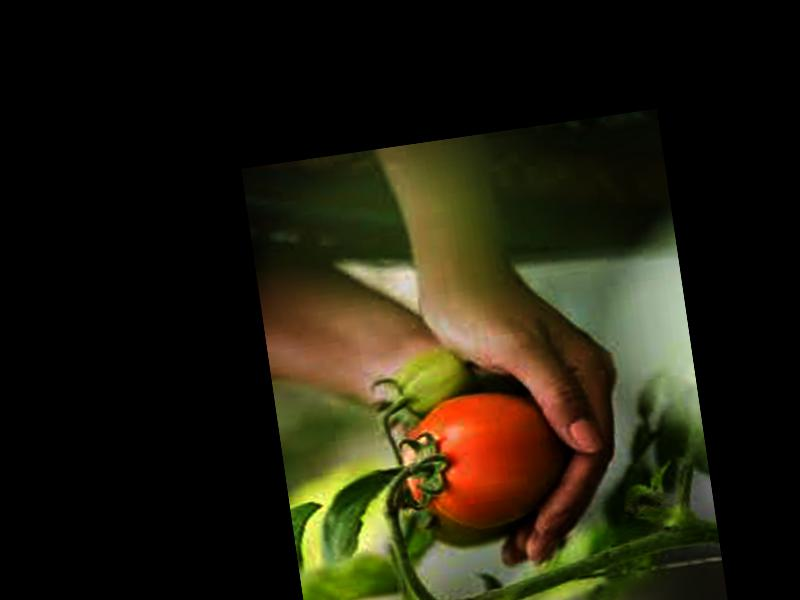Tomato: (396, 383, 567, 536)
